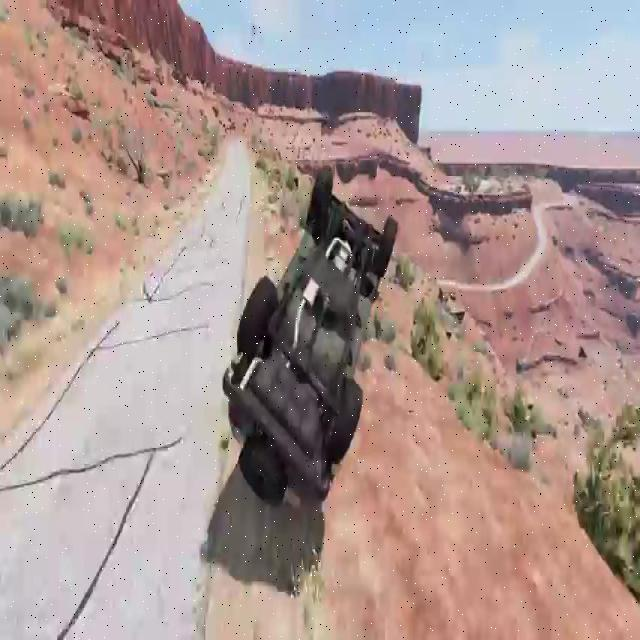severe: (221, 150, 400, 507)
